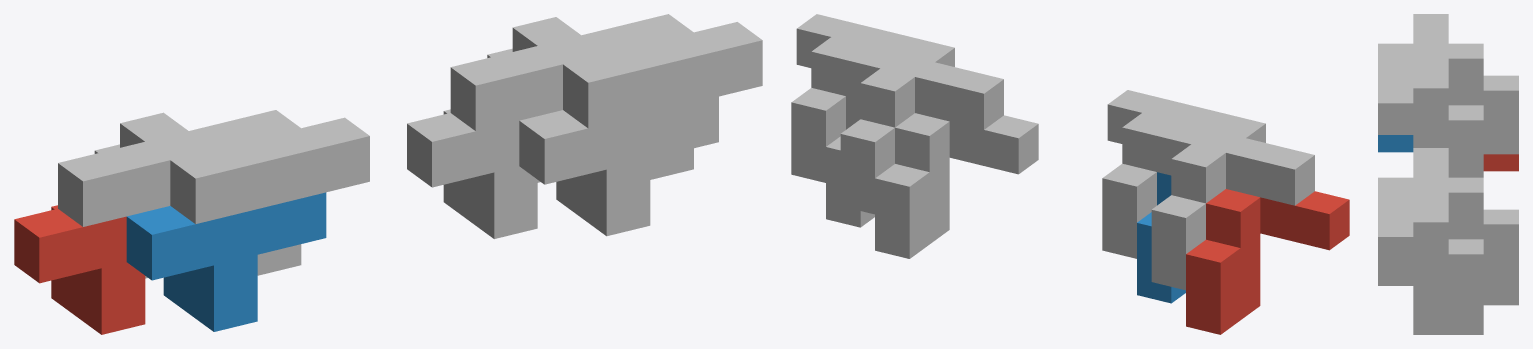
File: tiling.obj
The picture shows the model from 3 angles, left to right: view 1: azimuth 30°, elevation 25°; view 2: azimuth 150°, elevation 25°; view 3: azimuth 270°, elevation 25°; orthographic projection. The views are drawn at different scales.
Parts seen in each view (by area): view 1: copy_1_domain_4, copy_1_domain_8, copy_1_domain_2, copy_1_domain_6, copy_1_domain_1, copy_1_domain_5, copy_1_domain_7, copy_1_domain_3; view 2: copy_1_domain_7, copy_1_domain_3, copy_1_domain_1, copy_1_domain_5, copy_1_domain_4, copy_1_domain_8, copy_1_domain_6, copy_1_domain_2; view 3: copy_1_domain_8, copy_1_domain_4, copy_1_domain_3, copy_1_domain_7, copy_1_domain_6, copy_1_domain_1, copy_1_domain_2, copy_1_domain_5.
Boxes of the visible parts, x1,y1,x2,y2 form: copy_1_domain_4: (170,110,369,275); copy_1_domain_8: (563,14,762,179); copy_1_domain_2: (126,192,326,331); copy_1_domain_6: (519,96,718,236); copy_1_domain_1: (14,205,145,334); copy_1_domain_5: (407,109,537,238); copy_1_domain_7: (450,17,649,182); copy_1_domain_3: (58,112,257,278); copy_1_domain_7: (840,45,1003,214); copy_1_domain_3: (1151,121,1314,290); copy_1_domain_1: (1186,189,1349,334); copy_1_domain_5: (875,113,1038,258); copy_1_domain_4: (1102,90,1265,258); copy_1_domain_8: (791,14,954,182); copy_1_domain_6: (826,96,874,227); copy_1_domain_2: (1137,172,1185,303); copy_1_domain_8: (1378,177,1483,317); copy_1_domain_4: (1378,43,1483,177); copy_1_domain_3: (1413,14,1518,154); copy_1_domain_7: (1413,148,1518,288); copy_1_domain_6: (1378,269,1483,334); copy_1_domain_1: (1483,154,1518,171); copy_1_domain_2: (1378,135,1413,152); copy_1_domain_5: (1483,288,1518,305).
Size of the model in its own units: 16 by 4 by 4.
